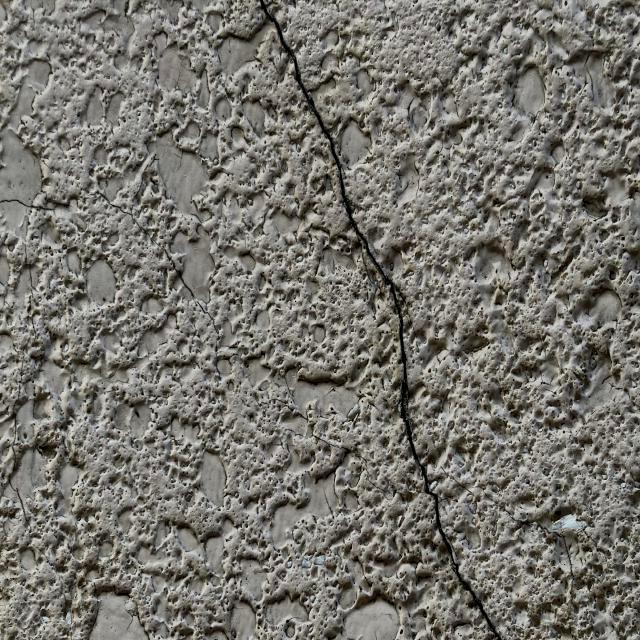SurfaceCrack: (229, 0, 563, 640)
